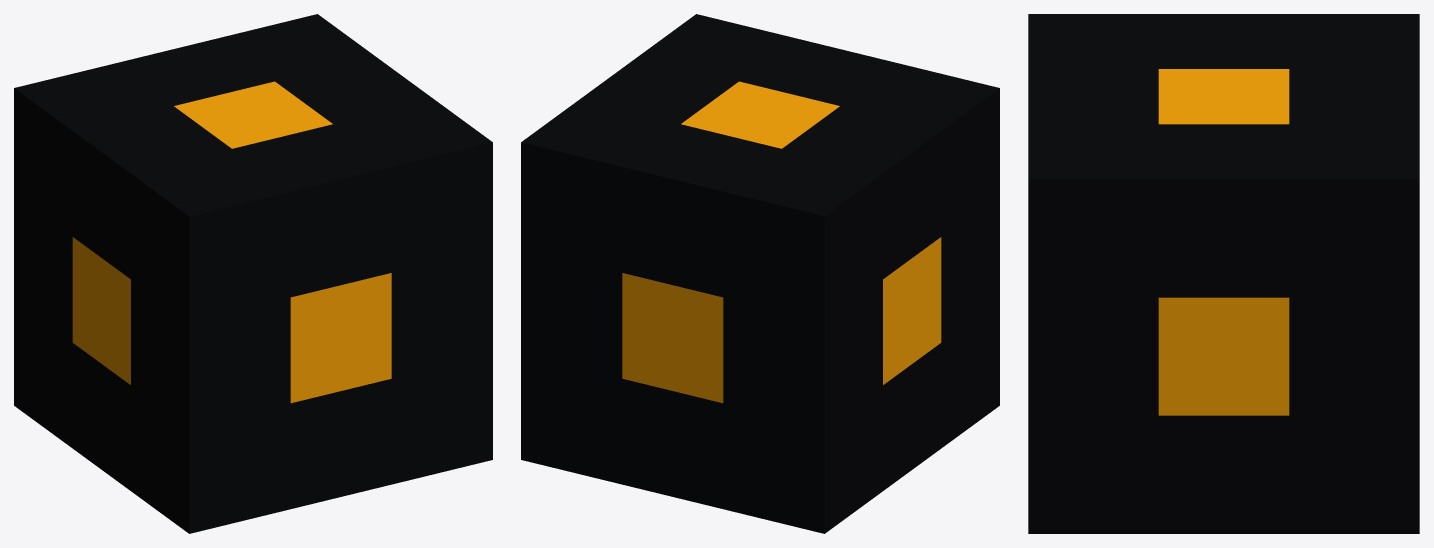
The model's file is ShieldSmall1.FBX.
3 renders of one model, left to right at view 1: azimuth 30°, elevation 25°; view 2: azimuth 150°, elevation 25°; view 3: azimuth 270°, elevation 25°, orthographic. The views are drawn at different scales.
Visible parts, largest first — view 1: ShieldSmall1; view 2: ShieldSmall1; view 3: ShieldSmall1.
Boxes of the visible parts, left/top/right/bottom form: ShieldSmall1: left=14, top=14, right=492, bottom=533; ShieldSmall1: left=521, top=14, right=999, bottom=533; ShieldSmall1: left=1028, top=14, right=1419, bottom=533.
Bounding box in the file's own units: 3 × 3 × 3.
